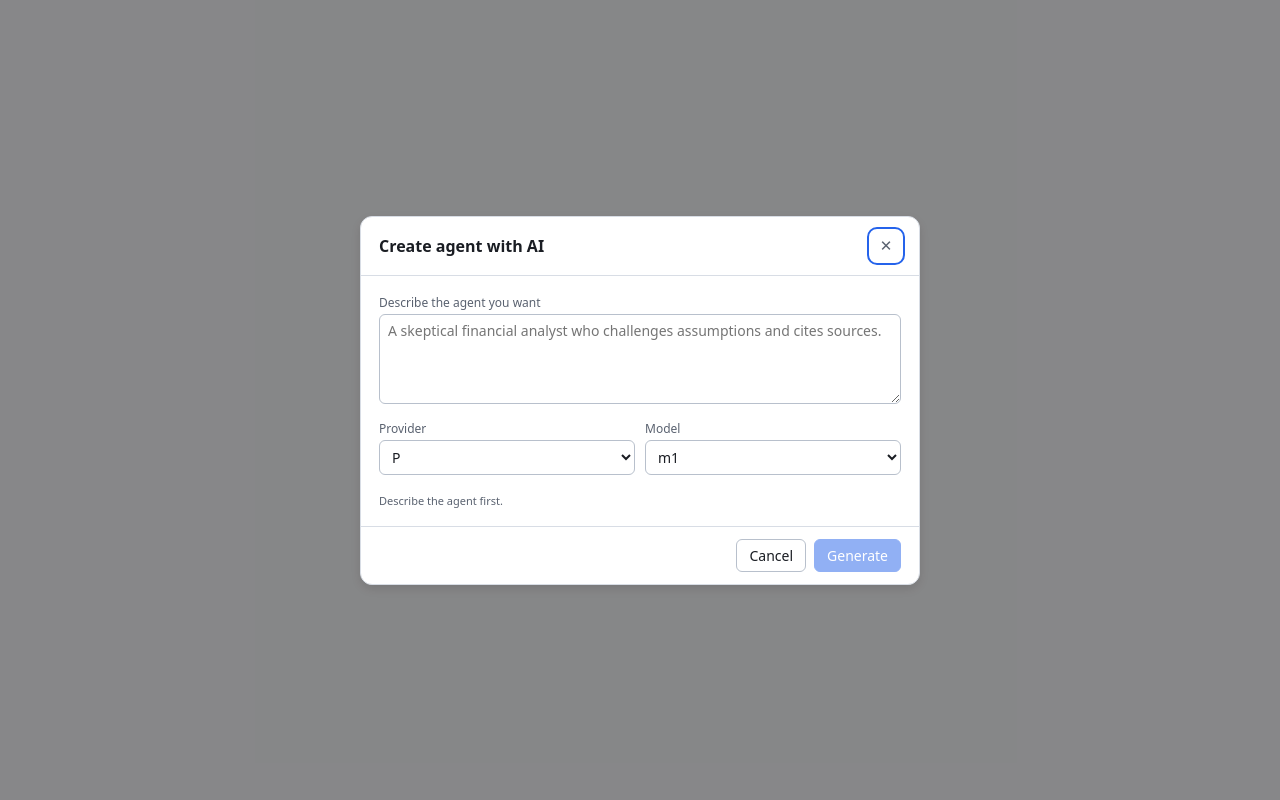
Scenario: CreateAgentWithAiModal › offers Recover draft for unrecoverable shape errors
The width and height of the screenshot is (1280, 800).
Replace the text in the text box labelled "Describe the agent you want" with "a critic" at (640, 358), box [379,314,901,404]
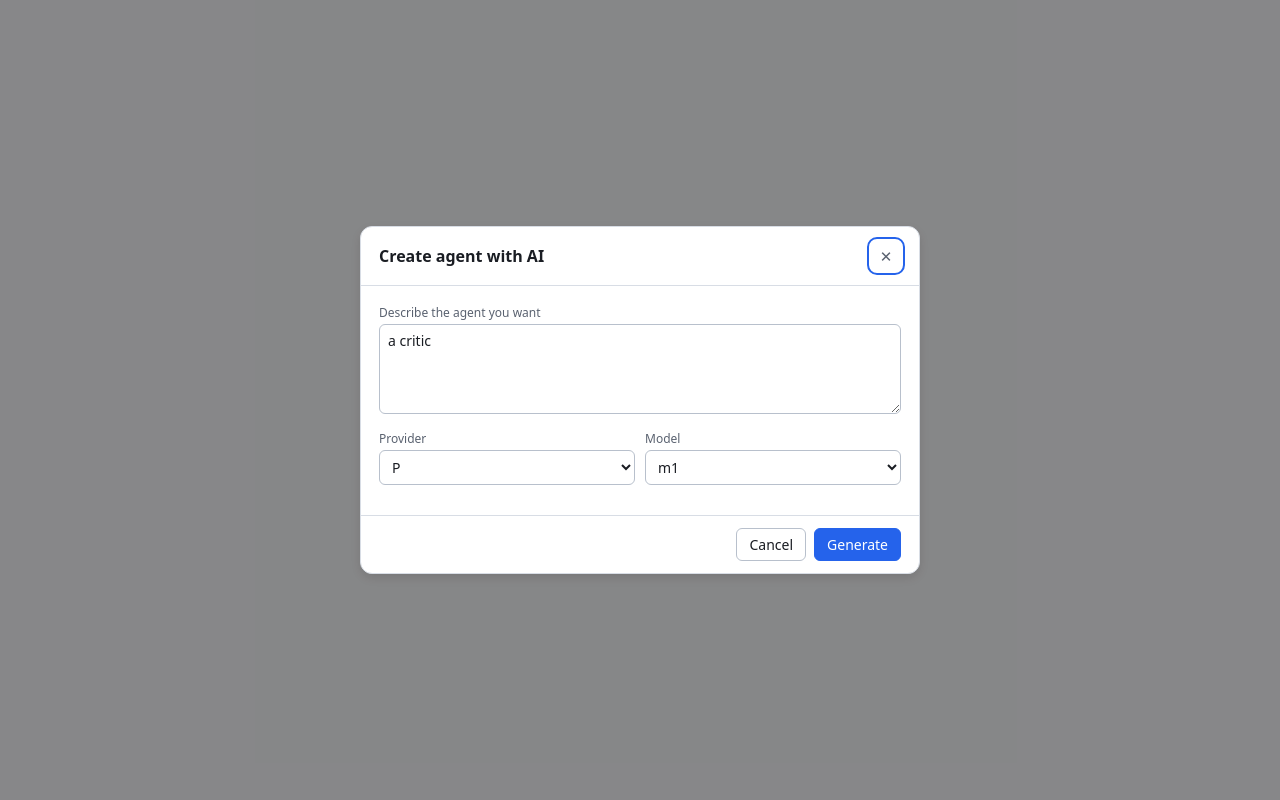
Click the button "Generate".
click(858, 544)  # box [814,528,901,561]
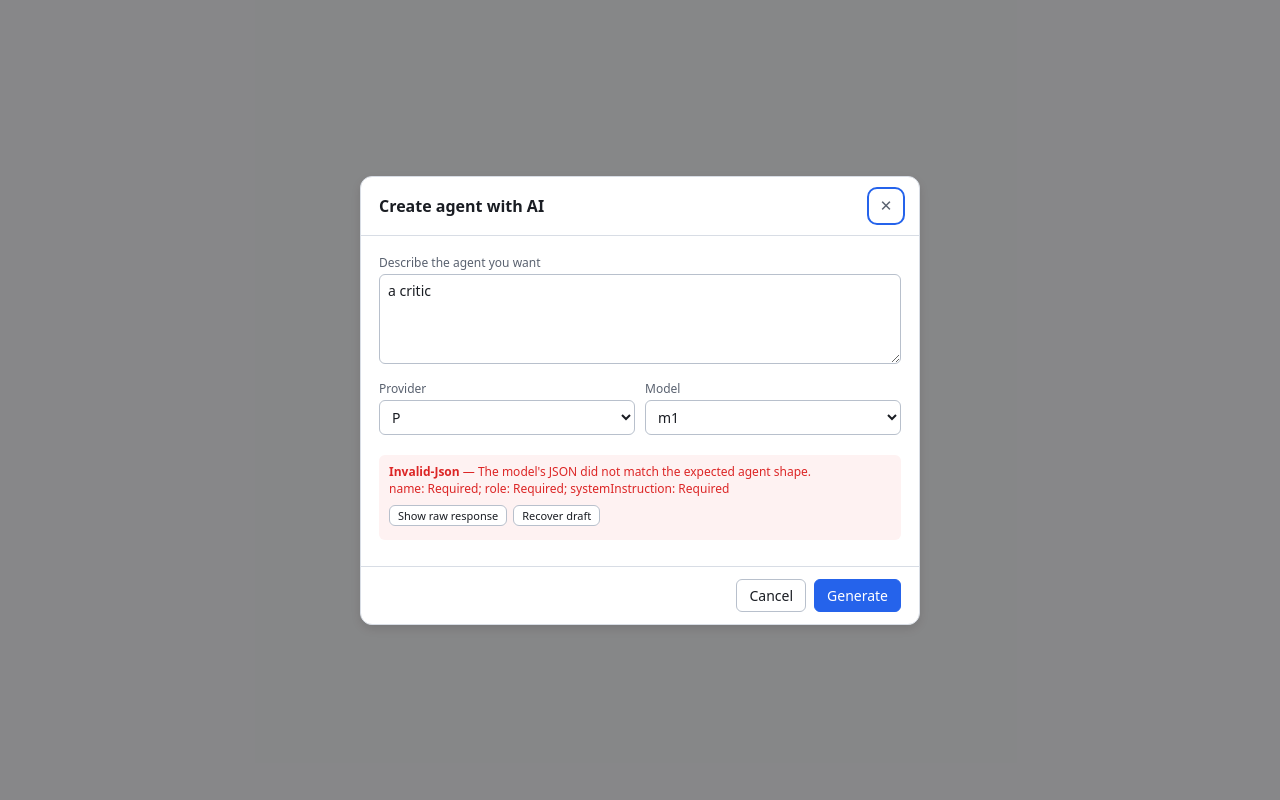
Expected: the button "Recover draft" is shown
Click the button "Recover draft".
click(557, 515)  # box [513,504,600,526]
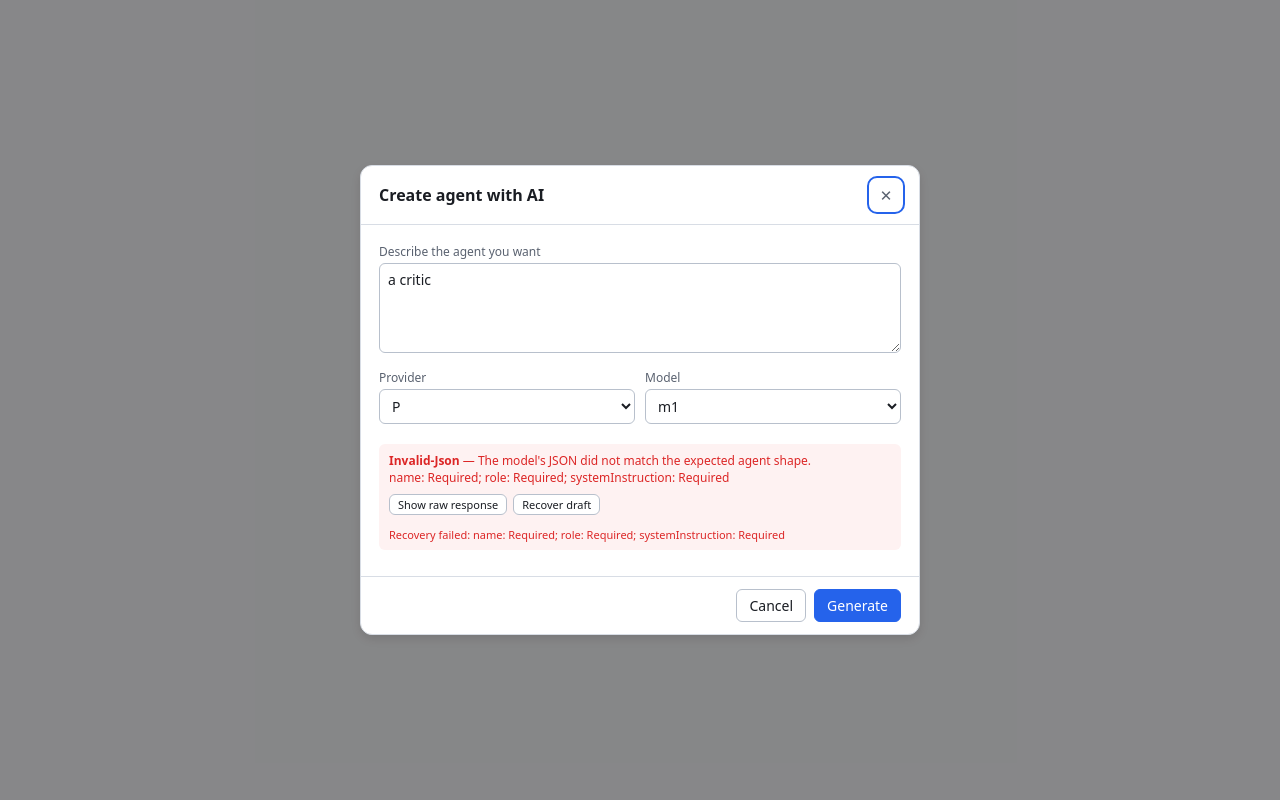
Expected: the text "Recovery failed" is shown, [389,527,785,542]
